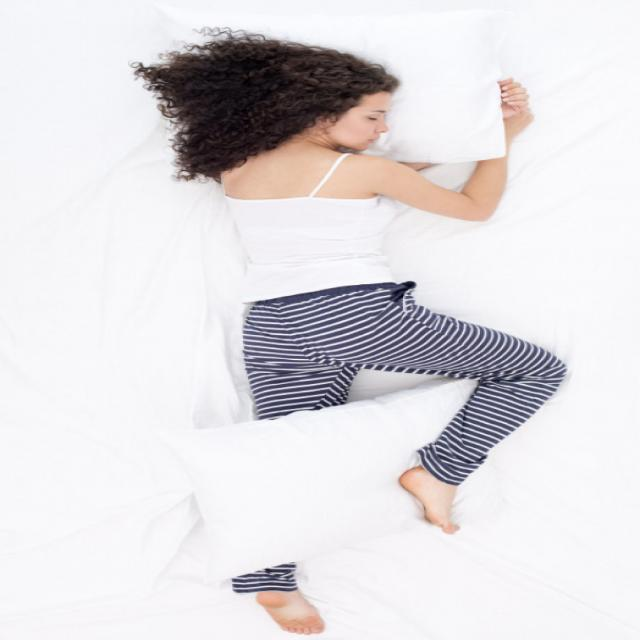people: (81, 17, 574, 638)
